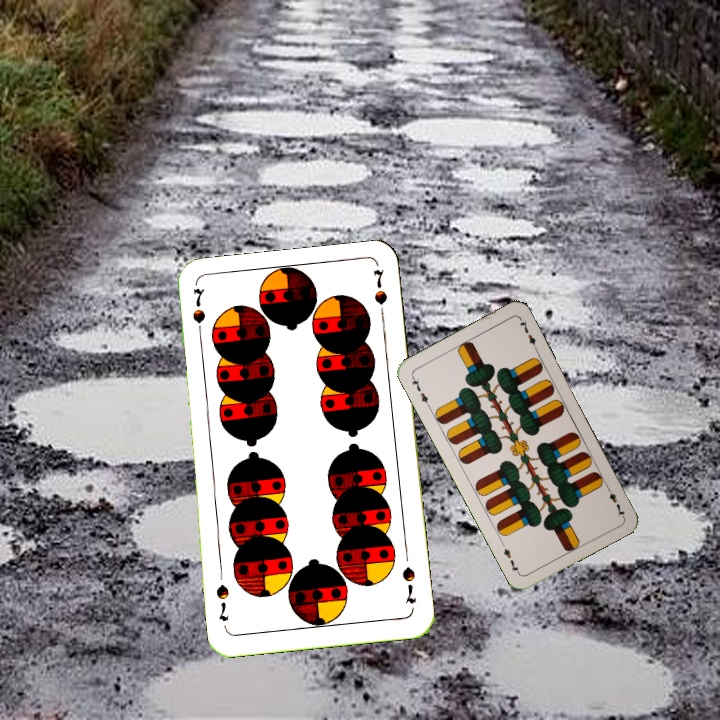E7: (407, 372, 432, 410), (602, 481, 627, 519)
S7: (188, 284, 208, 343), (398, 562, 419, 606)
